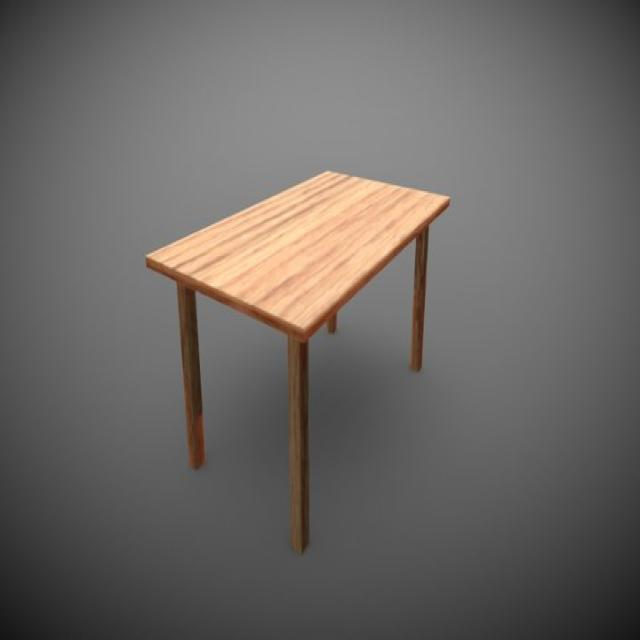table: (144, 168, 452, 554)
